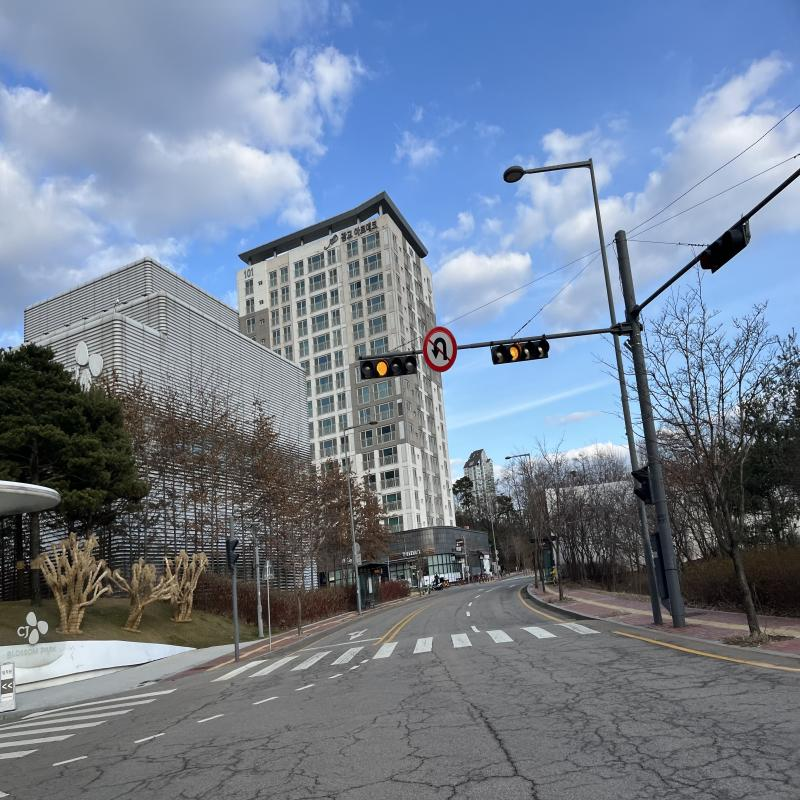yellow: (376, 359, 390, 377), (509, 344, 521, 362)
